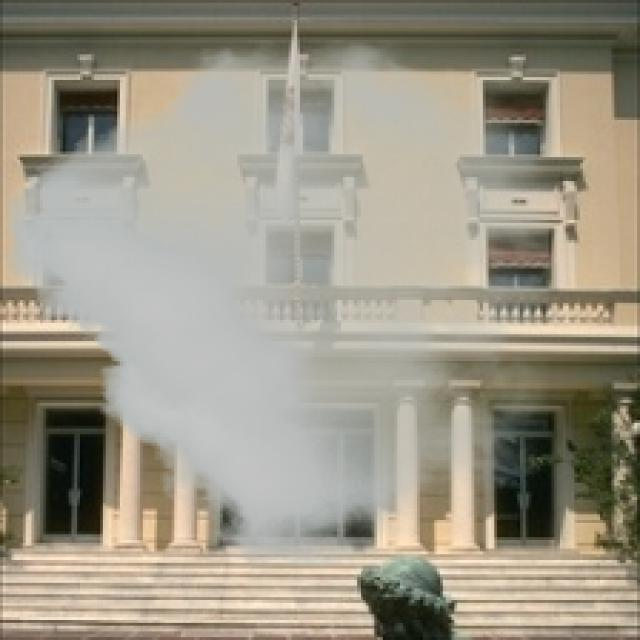Smoke: (6, 40, 548, 566)
